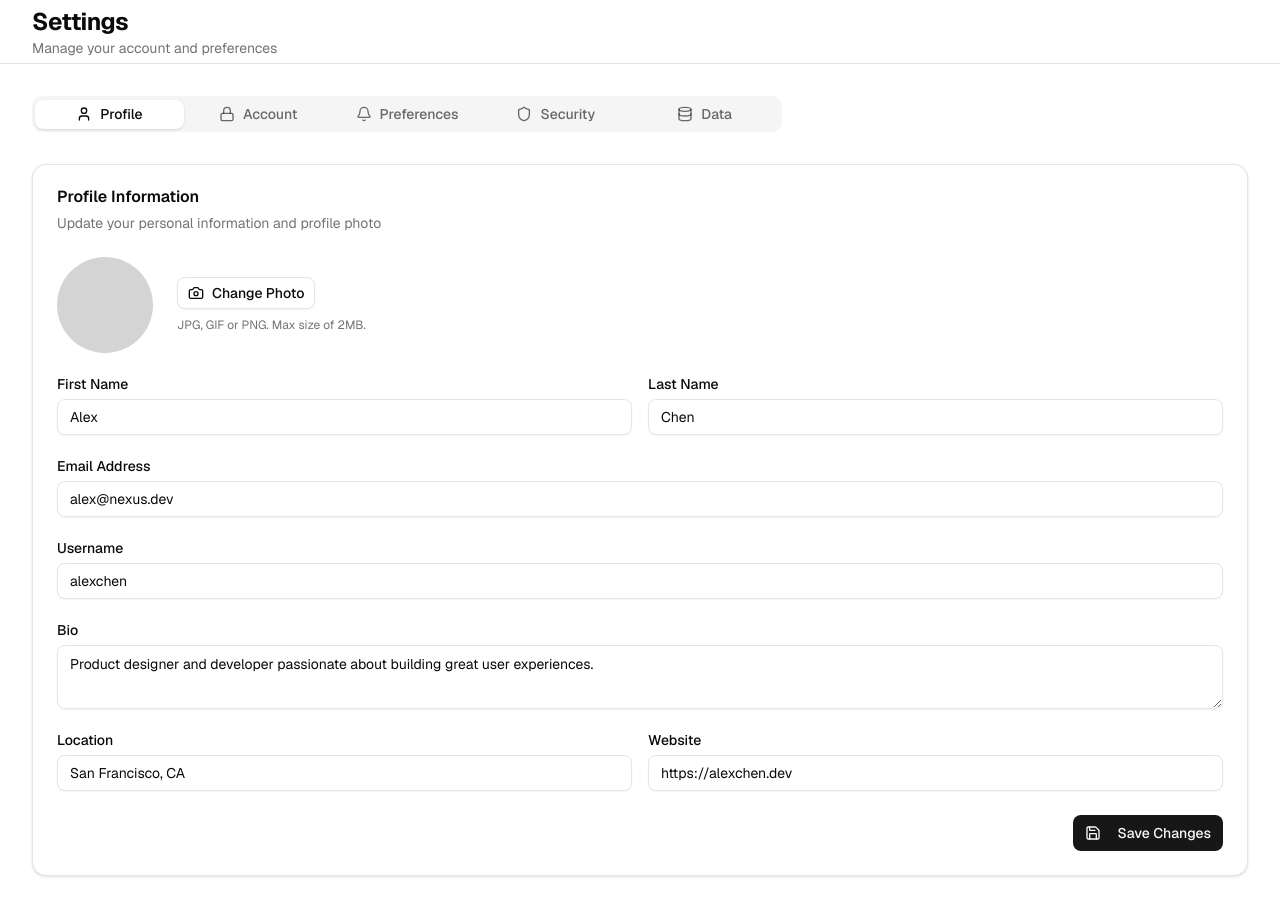
Test: SettingsPage › switches to security tab
Click the tab "Security".
click(556, 114)  # box [481, 100, 630, 128]
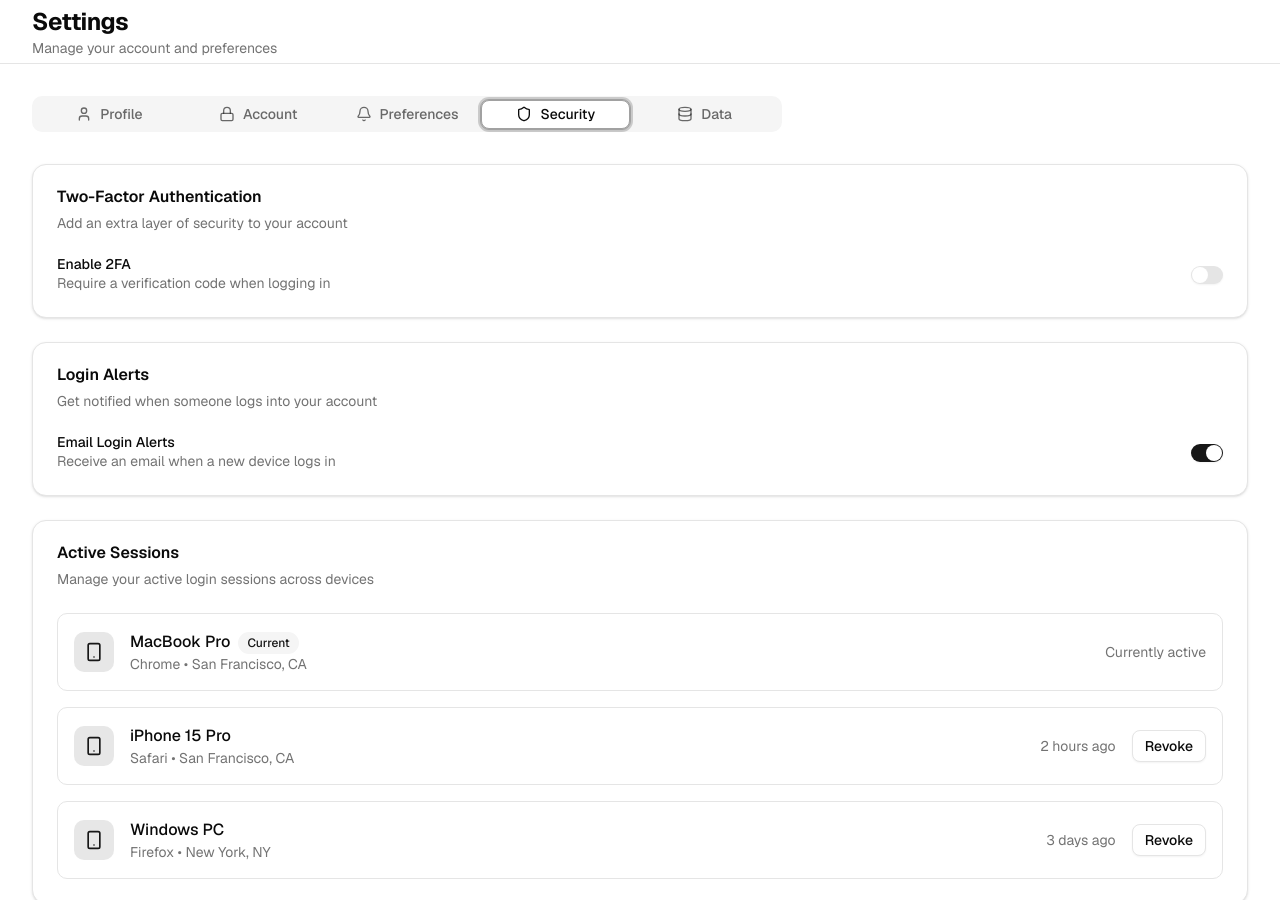
Check: the text "Two-Factor Authentication" is shown, box [57, 186, 262, 207]
Check: the text "Add an extra layer of security to your account" is shown, box [57, 214, 348, 232]
